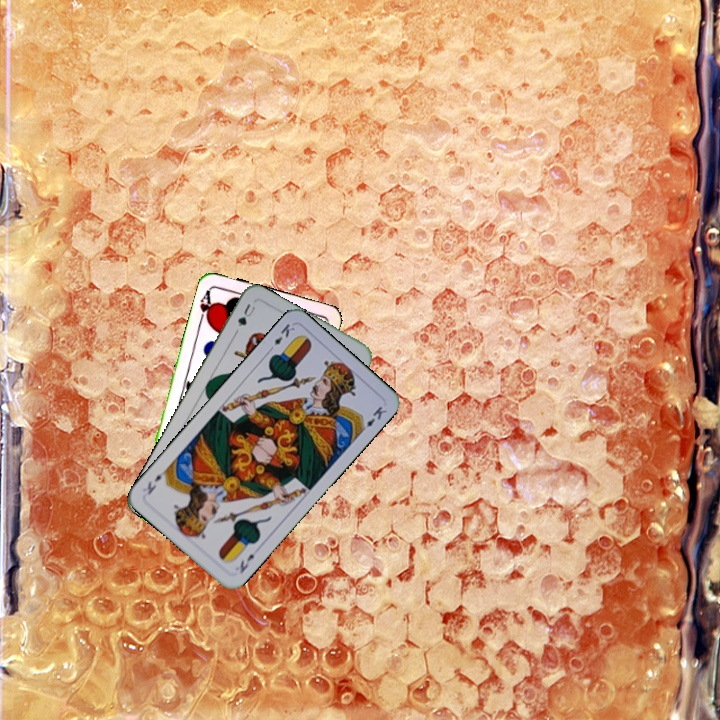EK: (264, 319, 297, 355), (236, 550, 257, 576)
GU: (233, 299, 258, 329)
HA: (195, 286, 216, 326)
